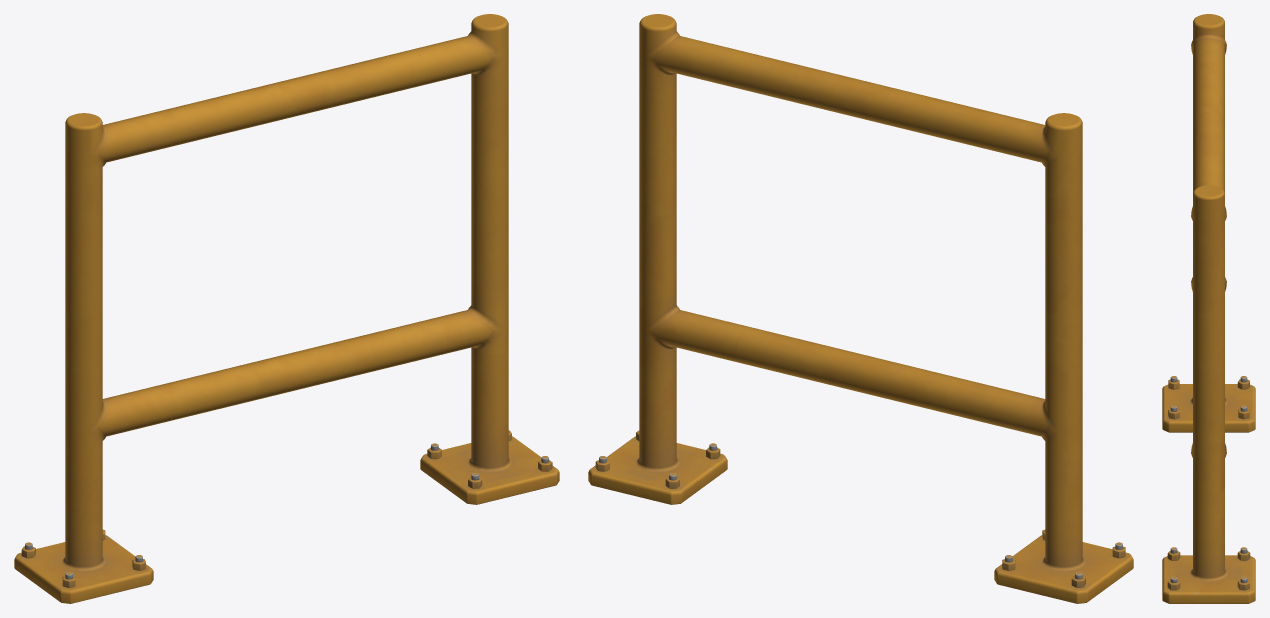
The model's file is metal.glb.
The picture shows the model from 3 angles, left to right: view 1: azimuth 30°, elevation 25°; view 2: azimuth 150°, elevation 25°; view 3: azimuth 270°, elevation 25°; orthographic projection. The views are drawn at different scales.
Visible parts, largest first — view 1: sm_barrier_fence_a02_mesh_00 (×2); view 2: sm_barrier_fence_a02_mesh_00 (×2); view 3: sm_barrier_fence_a02_mesh_00 (×2).
Boxes of the visible parts, x1,y1,x2,y2 form: sm_barrier_fence_a02_mesh_00 (×2): (14,14,559,603); sm_barrier_fence_a02_mesh_00 (×2): (588,14,1133,603); sm_barrier_fence_a02_mesh_00 (×2): (1162,14,1255,603).
Size of the model in its own units: 1.23 by 1.07 by 0.23.
1 material, 1 textured.
